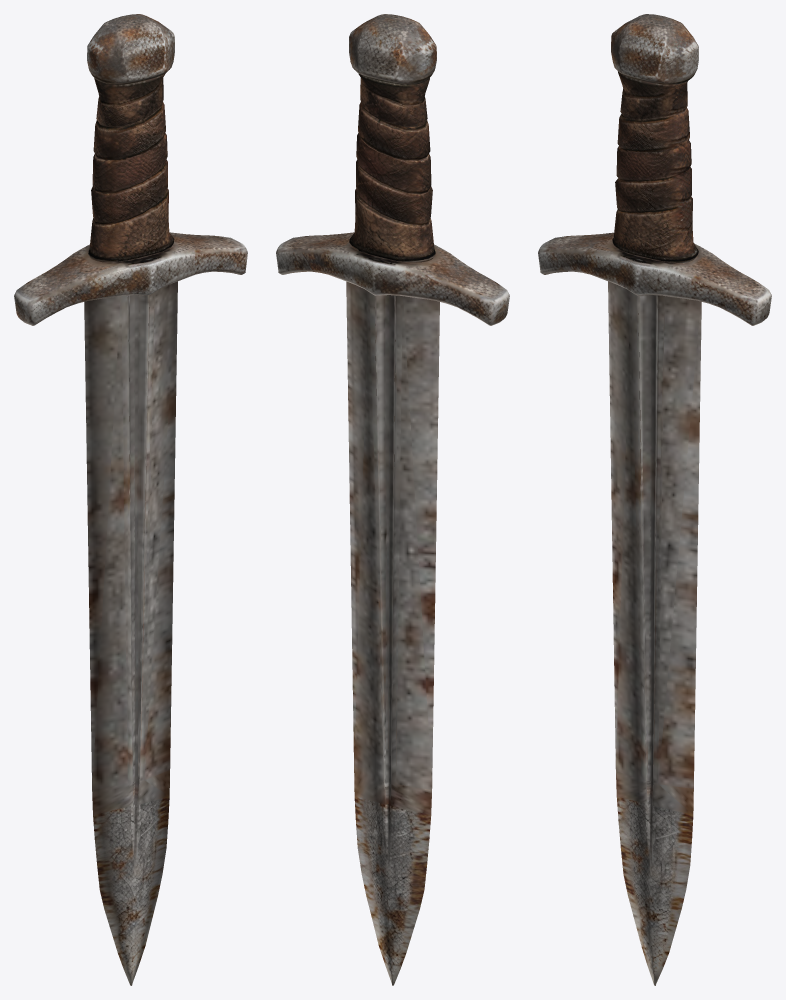
The model's file is sword.glb.
3 views of the same model, side by side, from view 1: azimuth 30°, elevation 25°; view 2: azimuth 150°, elevation 25°; view 3: azimuth 330°, elevation 25° (orthographic).
Parts seen in each view (by area): view 1: tripo_node_258e8aa3-e251-4f38-8196-9644aa698bb3; view 2: tripo_node_258e8aa3-e251-4f38-8196-9644aa698bb3; view 3: tripo_node_258e8aa3-e251-4f38-8196-9644aa698bb3.
Part boxes in pixels (bbox=[...]): tripo_node_258e8aa3-e251-4f38-8196-9644aa698bb3: bbox=[14, 14, 247, 985]; tripo_node_258e8aa3-e251-4f38-8196-9644aa698bb3: bbox=[276, 14, 509, 985]; tripo_node_258e8aa3-e251-4f38-8196-9644aa698bb3: bbox=[538, 14, 771, 985].
Bounding box in the file's own units: 0.2446 × 0.9995 × 0.0737.
1 material, 1 textured.
